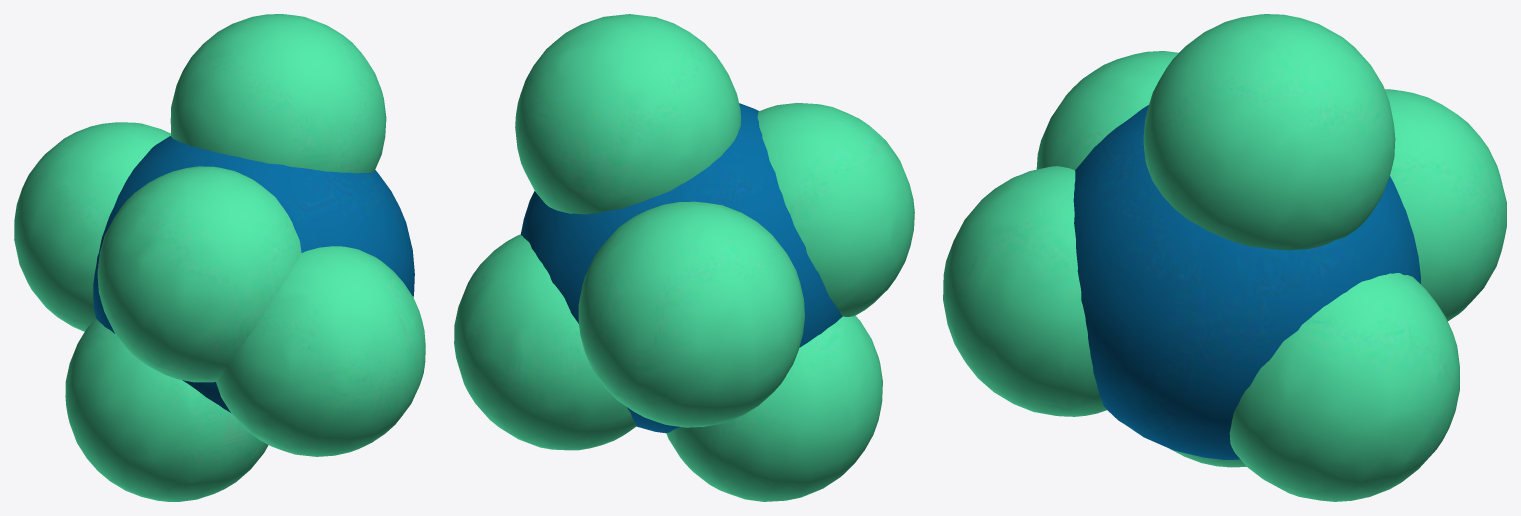
Rendered from greenmolecule.glb.
3 renders of one model, left to right at view 1: azimuth 30°, elevation 25°; view 2: azimuth 150°, elevation 25°; view 3: azimuth 270°, elevation 25°, orthographic. The views are drawn at different scales.
Visible parts, largest first — view 1: Sphere.6; view 2: Sphere.6; view 3: Sphere.6.
Boxes of the visible parts, x1=… form: Sphere.6: x1=14, y1=14, x2=425, y2=501; Sphere.6: x1=454, y1=14, x2=914, y2=501; Sphere.6: x1=943, y1=14, x2=1506, y2=501.
Bounding box in the file's own units: 0.8119 × 0.9821 × 1.01.
Materials: 1 (1 with a texture image).
